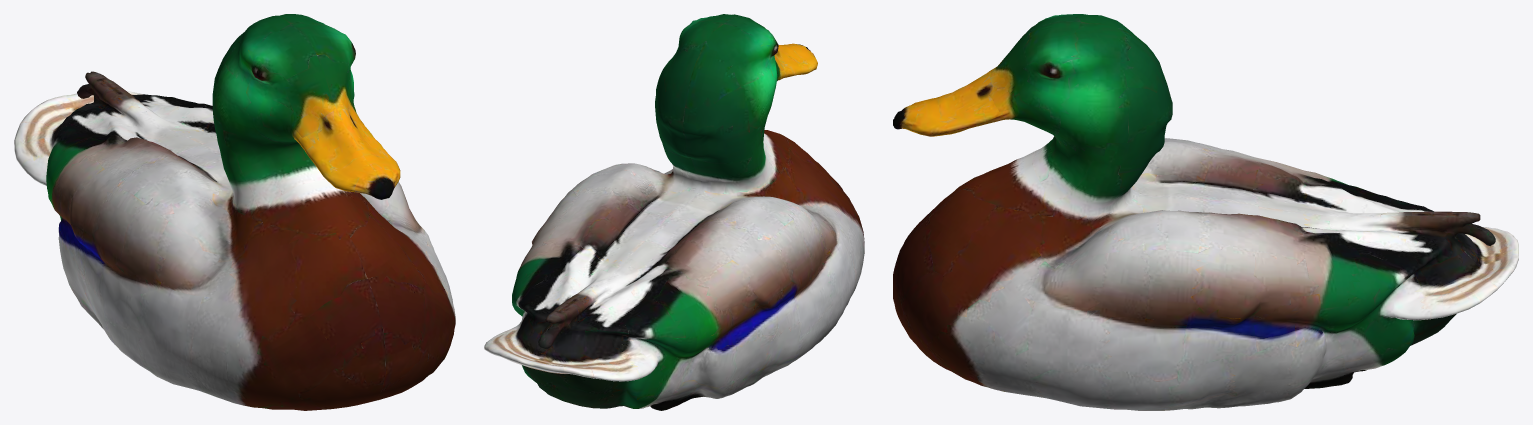
Rendered from duck.glb.
3 views of the same model, side by side, from view 1: azimuth 30°, elevation 25°; view 2: azimuth 150°, elevation 25°; view 3: azimuth 270°, elevation 25° (orthographic). The views are drawn at different scales.
Bounding box in the file's own units: 0.9746 × 1.13 × 1.9.
1 material, 1 textured.
